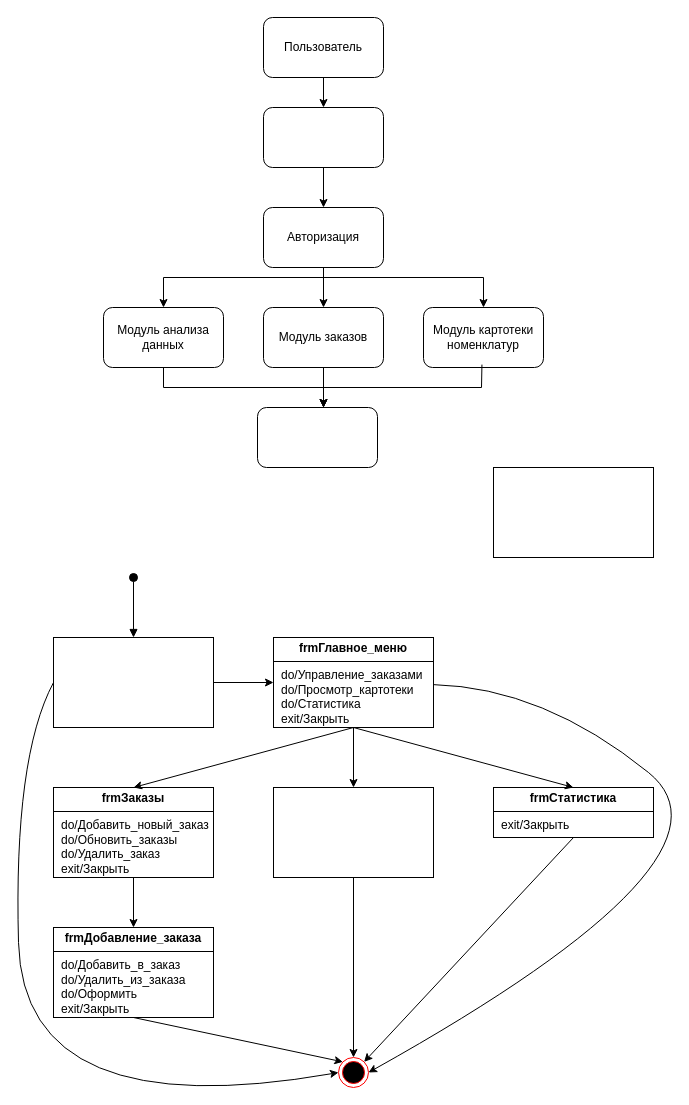
Some shapes in this 689 by 1105 pixel diagram are drawn without their labels. The centre of each missing label's shape, as x and y in pixels:
"frm exit/Закрыть" goes at (x=573, y=512).
"frmАвторизация do/Вход exit/Закрыть" goes at (x=133, y=682).
"frmКартотека do/Добавить_товар do/Обновить_товар do/Удалить_товар exit/Закрыть" goes at (x=353, y=832).
"База данных" goes at (x=317, y=437).
"Интерфейс" goes at (x=323, y=137).
